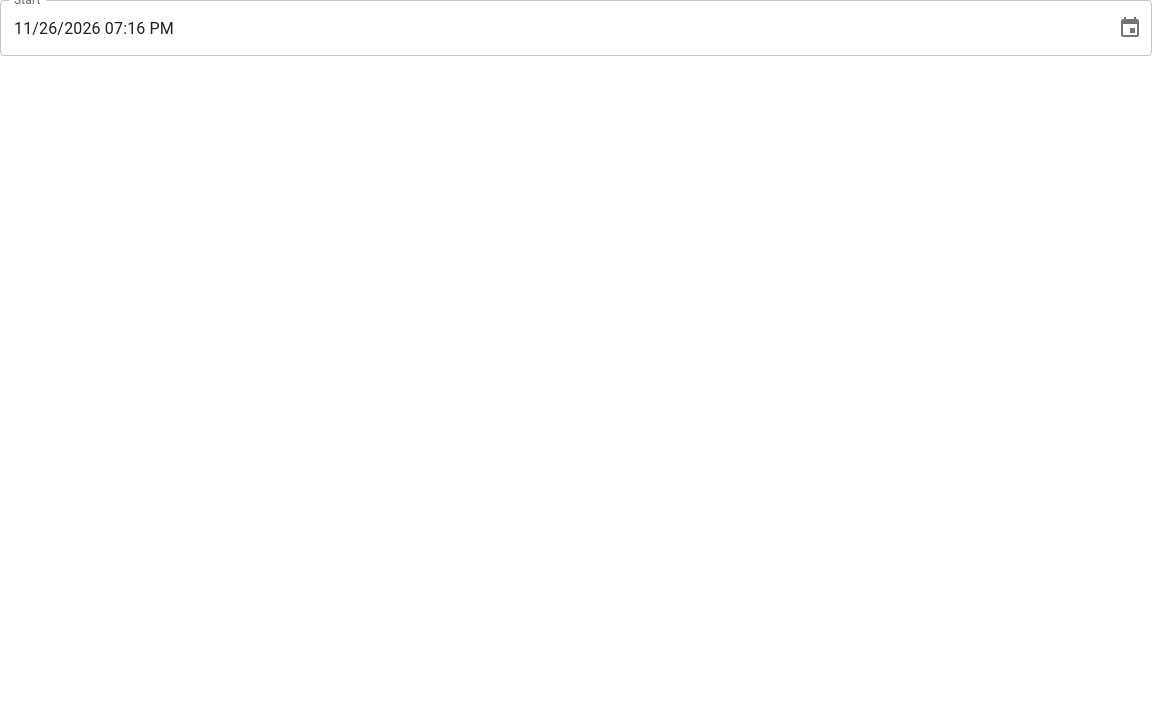
Test: SimpleDateTimeInput › labels the start-time current-moment shortcut as Now
The image size is (1152, 720).
Click the button named "Choose date, selected date is" at (1130, 28), box [1110,8,1150,48]
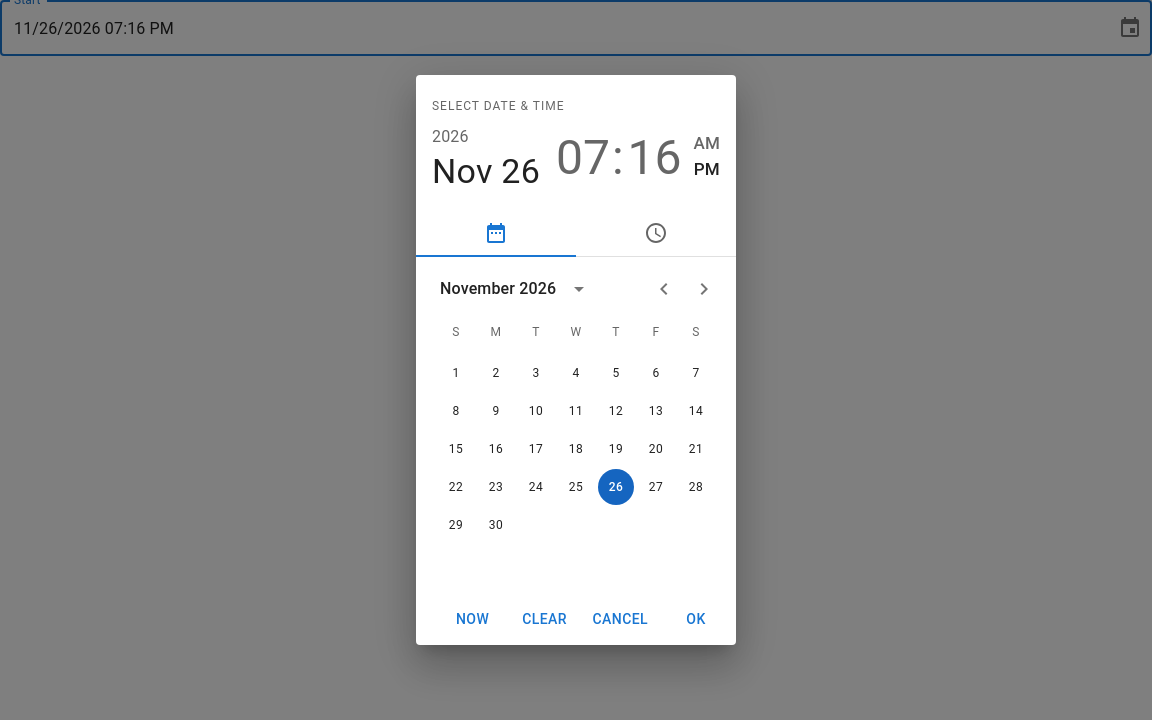
Check: the button "Now" is shown, box [440,601,504,637]
